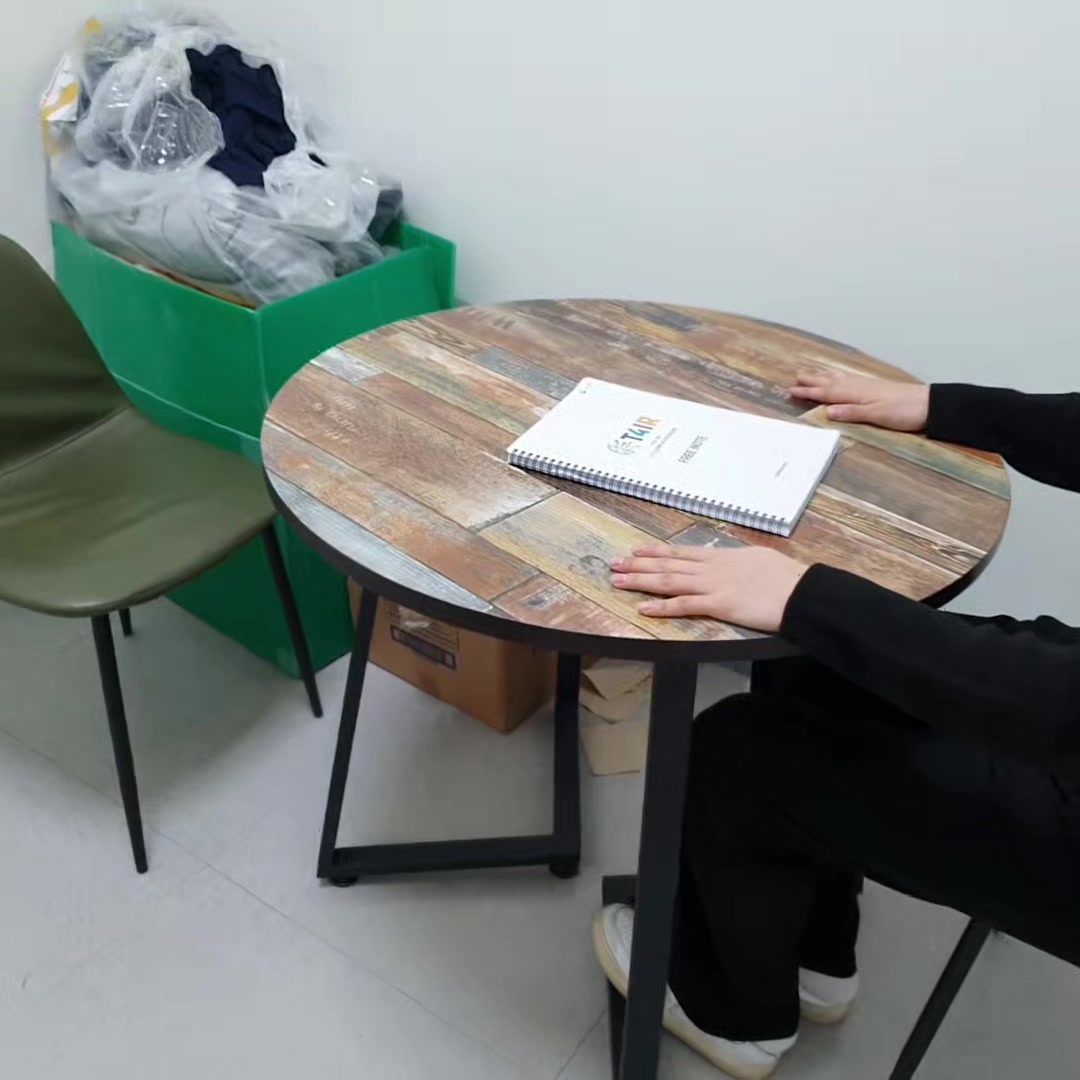book: (496, 371, 855, 546)
